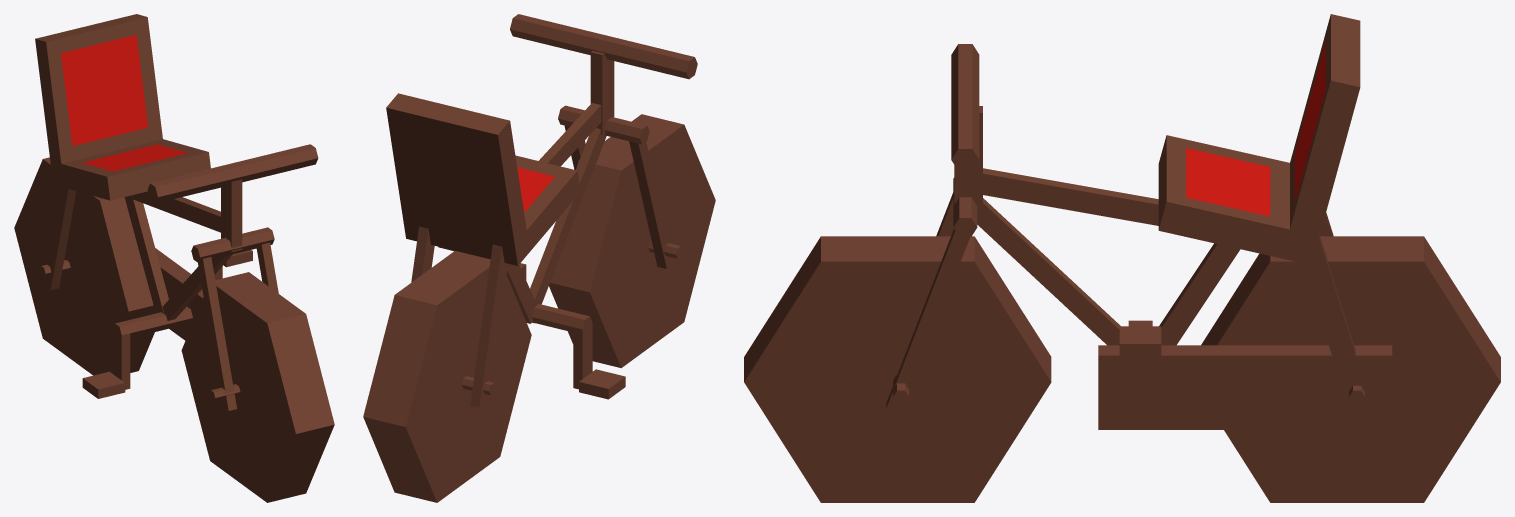
File: IWantToRideMy.fbx
3 views of the same model, side by side, from view 1: azimuth 30°, elevation 25°; view 2: azimuth 150°, elevation 25°; view 3: azimuth 270°, elevation 25° (orthographic). The views are drawn at different scales.
Parts seen in each view (by area): view 1: IWantToRideMy; view 2: IWantToRideMy; view 3: IWantToRideMy.
Boxes of the visible parts, x1=… form: IWantToRideMy: x1=14, y1=14, x2=334, y2=502; IWantToRideMy: x1=363, y1=14, x2=715, y2=502; IWantToRideMy: x1=744, y1=14, x2=1500, y2=502.
Bounding box in the file's own units: 64.2 × 126 × 195.
